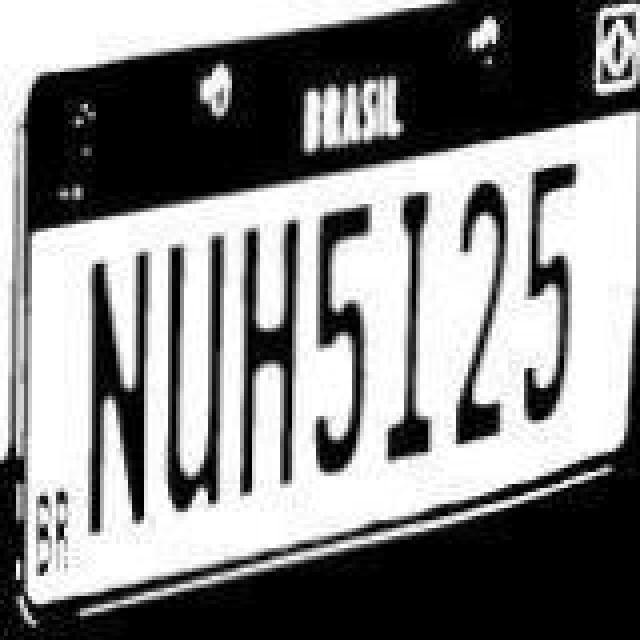2: (442, 172, 514, 456)
5: (308, 196, 376, 480), (518, 158, 582, 426)
H: (234, 214, 306, 502)
I: (378, 182, 442, 470)
N: (86, 250, 158, 558)
U: (158, 228, 230, 528)
